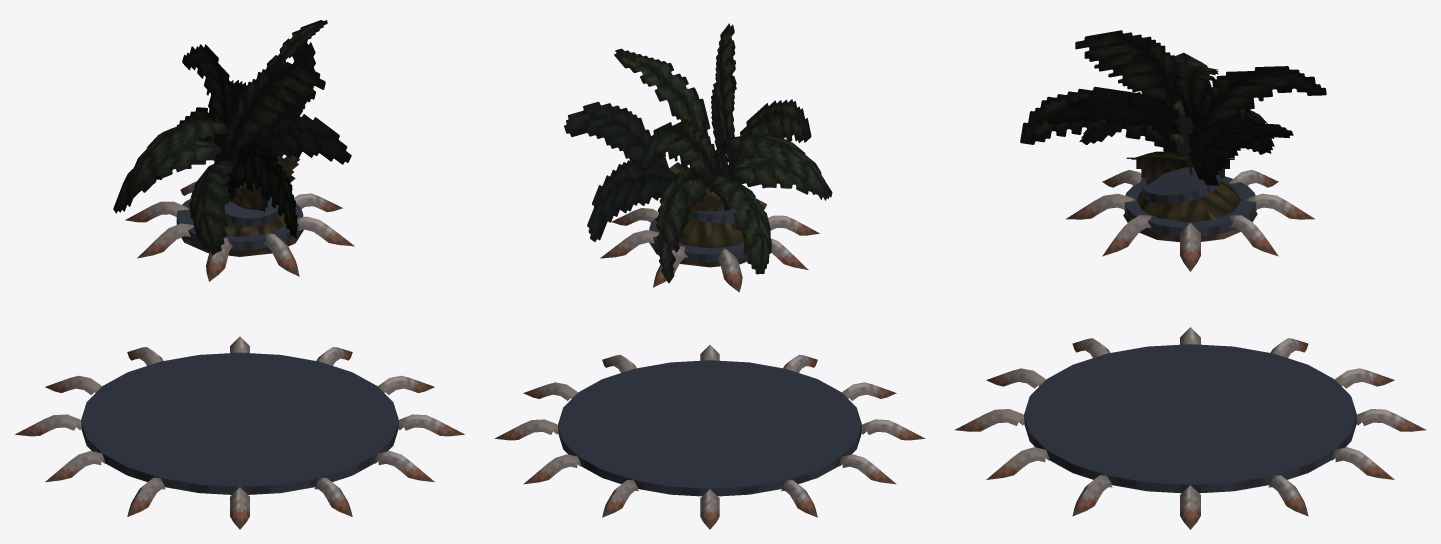
Rendered from EnvBdgMD_Island_A_Outdoor_House_B_Decoration.FBX.
The picture shows the model from 3 angles, left to right: view 1: azimuth 30°, elevation 25°; view 2: azimuth 150°, elevation 25°; view 3: azimuth 270°, elevation 25°; orthographic projection. The views are drawn at different scales.
Visible parts, largest first — view 1: EnvBdgMD_Island_A_Outdoor_House_B_Decoration; view 2: EnvBdgMD_Island_A_Outdoor_House_B_Decoration; view 3: EnvBdgMD_Island_A_Outdoor_House_B_Decoration.
Part boxes in pixels (bbox=[...]): EnvBdgMD_Island_A_Outdoor_House_B_Decoration: bbox=[15, 20, 464, 529]; EnvBdgMD_Island_A_Outdoor_House_B_Decoration: bbox=[494, 23, 925, 529]; EnvBdgMD_Island_A_Outdoor_House_B_Decoration: bbox=[955, 30, 1425, 529].
Size of the model in its own units: 480 by 471 by 480.
2 materials, 2 textured.
